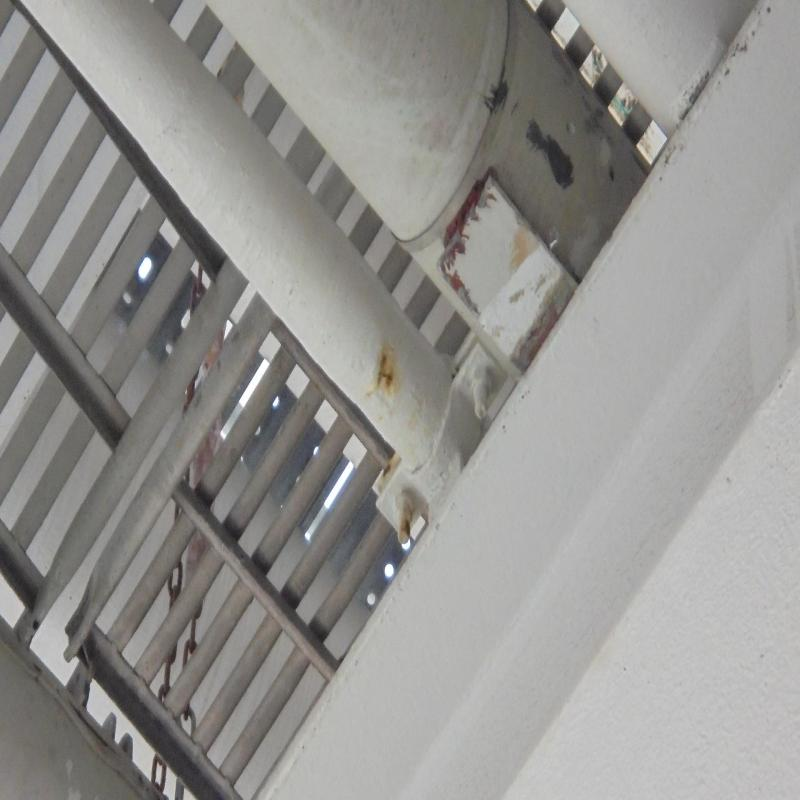corrosion: (381, 360, 390, 403)
